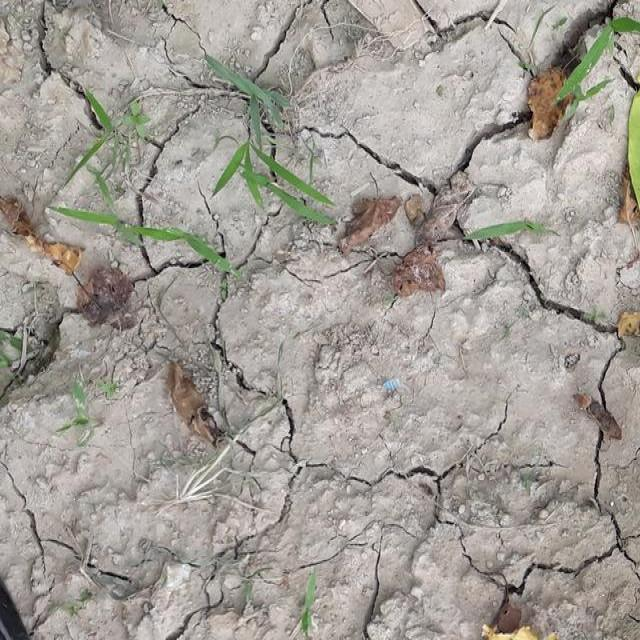weed: (204, 49, 340, 248), (54, 202, 193, 262), (74, 98, 144, 184), (572, 11, 616, 110), (472, 223, 571, 241)
